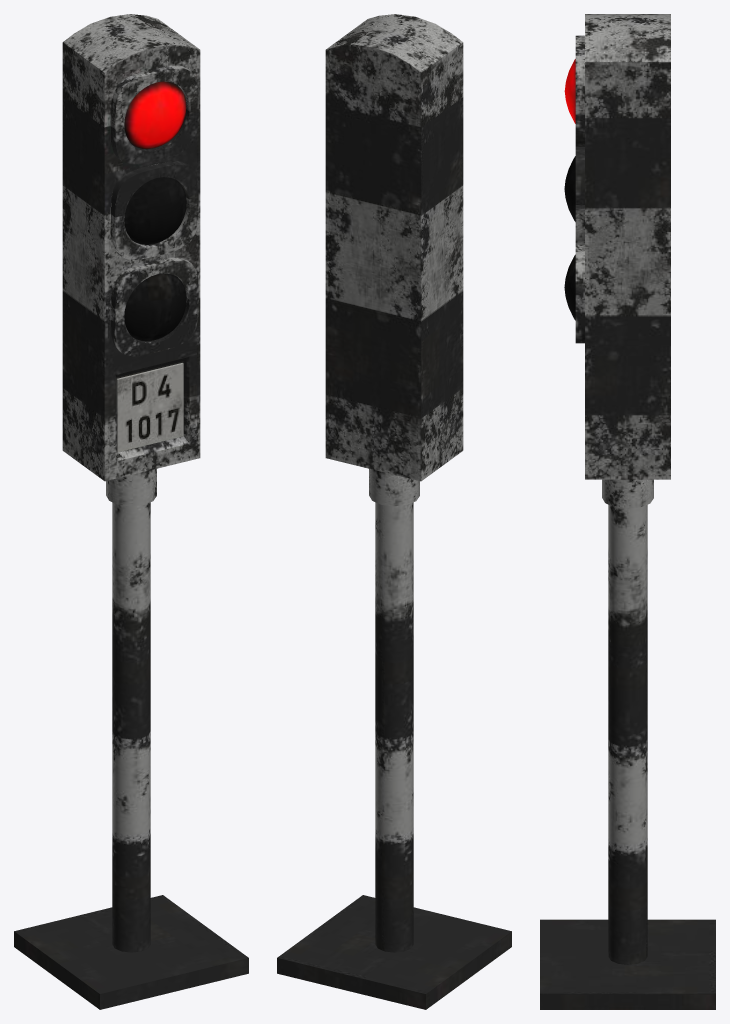
Rendered from subway_traffic_light_gameready.glb.
3 views of the same model, side by side, from view 1: azimuth 30°, elevation 25°; view 2: azimuth 150°, elevation 25°; view 3: azimuth 270°, elevation 25° (orthographic). The views are drawn at different scales.
Parts seen in each view (by area): view 1: subway_traffic_light_gameready.001; view 2: subway_traffic_light_gameready.001; view 3: subway_traffic_light_gameready.001.
Boxes of the visible parts, x1,y1,x2,y2 form: subway_traffic_light_gameready.001: [14, 14, 248, 1009]; subway_traffic_light_gameready.001: [277, 14, 511, 1009]; subway_traffic_light_gameready.001: [540, 14, 715, 1009].
Bounding box in the file's own units: 0.5968 × 3.56 × 0.5968.
1 material, 1 textured.
